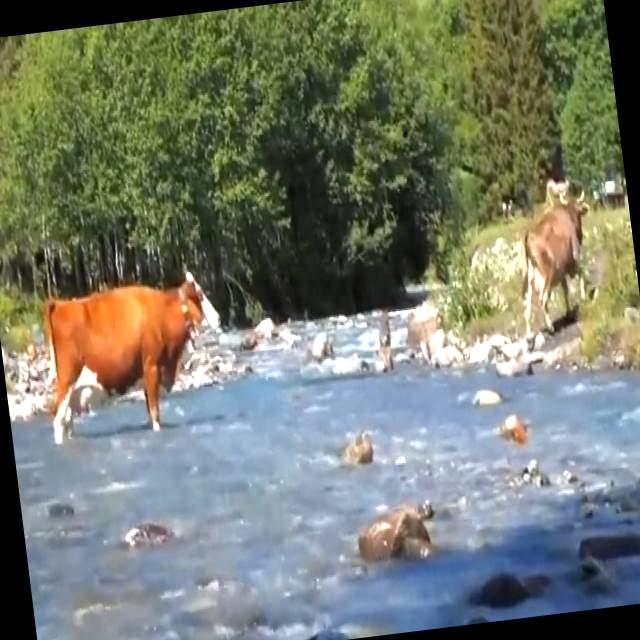COW: (45, 274, 217, 442), (523, 196, 586, 336)
